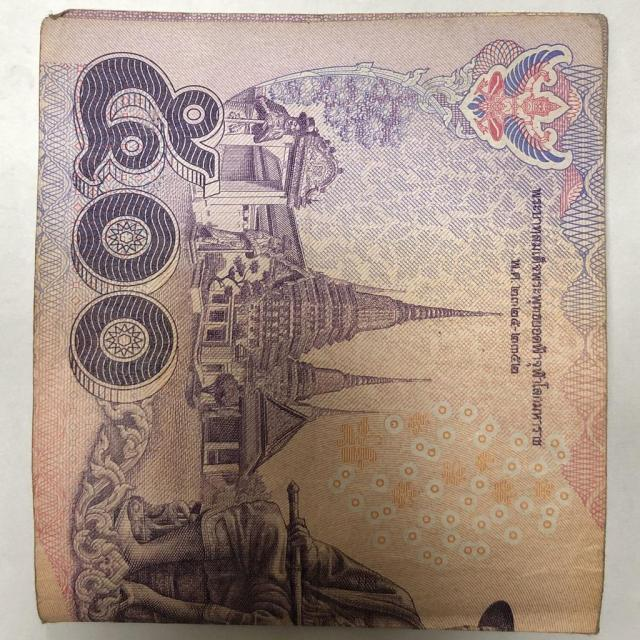THAI500: (31, 10, 608, 633)
